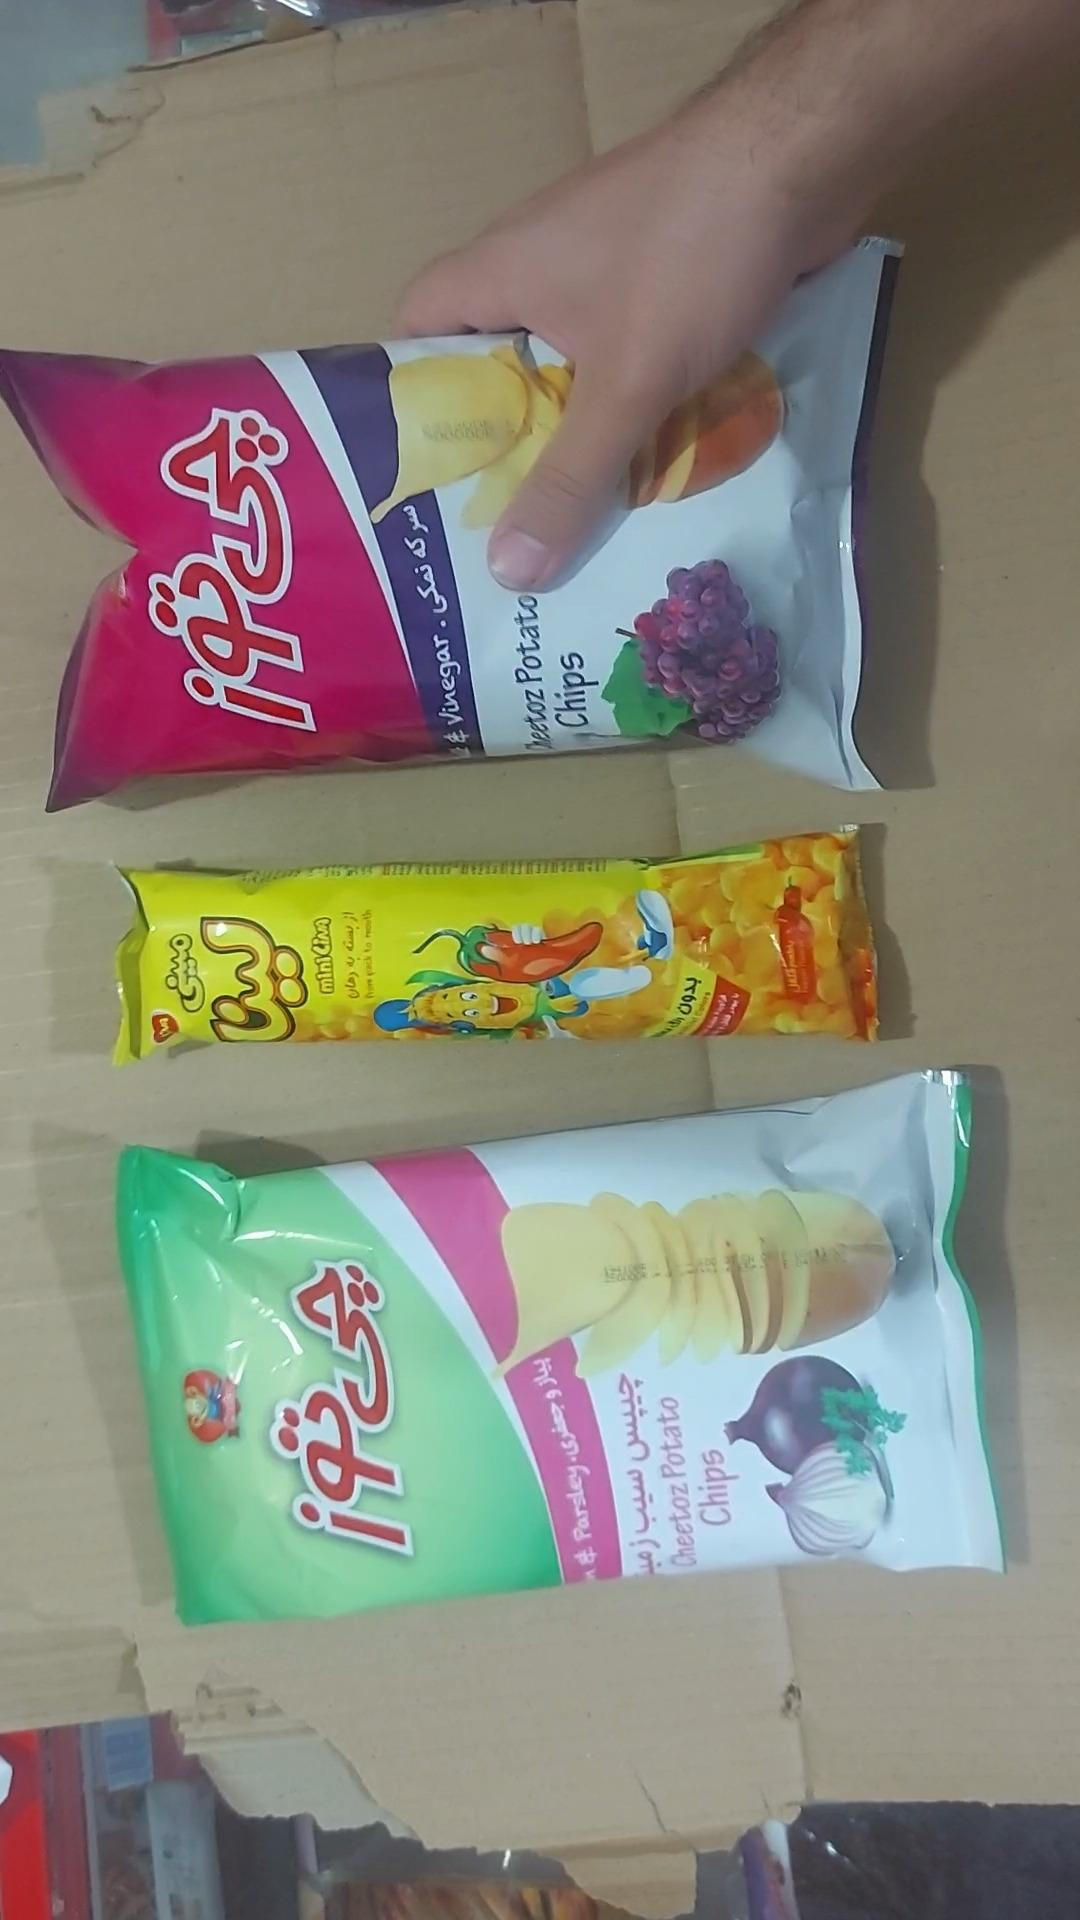Cheetoz onion and parsley chips: (117, 1072, 1002, 1625)
Cheetoz vinegar chips: (0, 240, 894, 808)
Mini Lina: (113, 833, 878, 1064)
